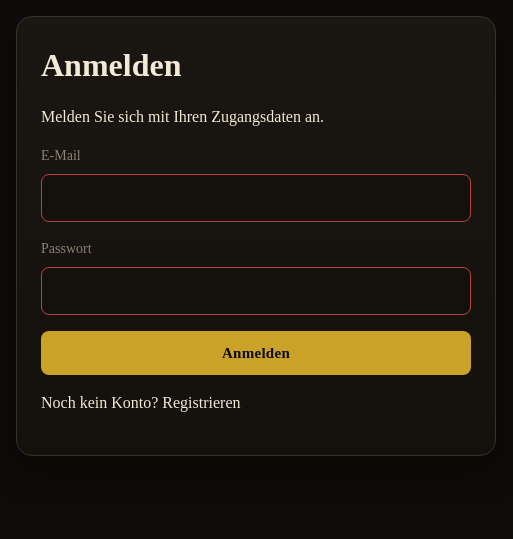
Test: Login › zeigt eine Fehlermeldung bei falschen Zugangsdaten
In the field labelled "E-Mail": [256, 198] box [41,174,471,222], type "a@b.c"
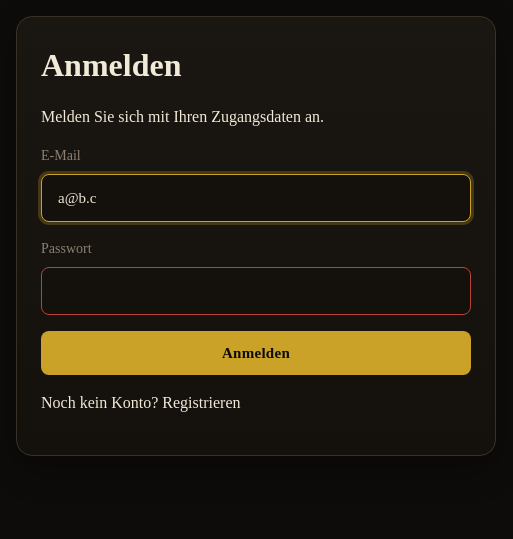
In the password field labelled "Passwort": [256, 291] box [41,267,471,315], type "wrong"
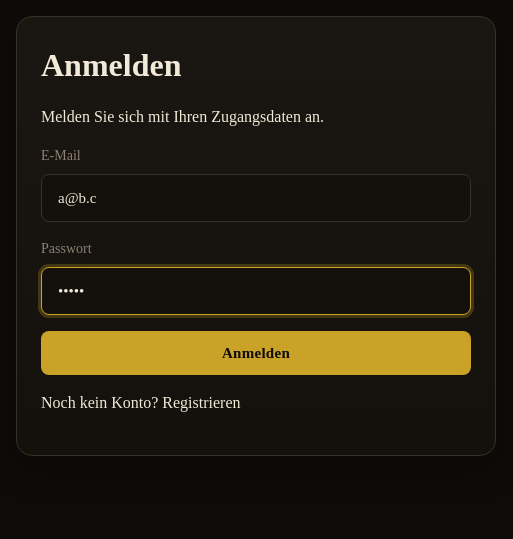
Click the button "Anmelden": [256, 353] box [41,331,471,375]
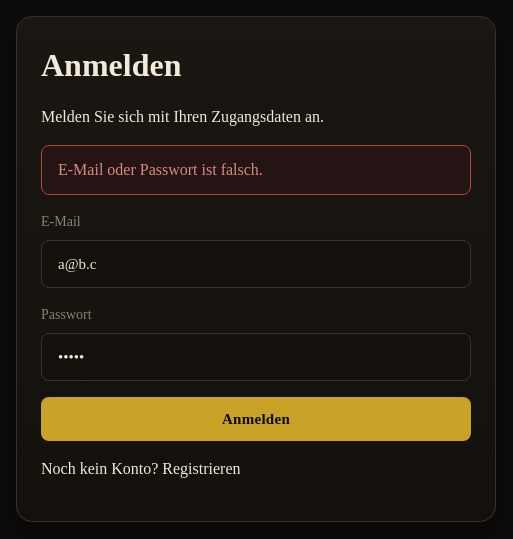
Expected: the text "E-Mail oder Passwort ist falsch." is shown, [41,145,471,195]
